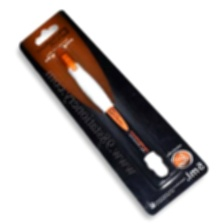correction_fluid: (51, 40, 176, 180)
